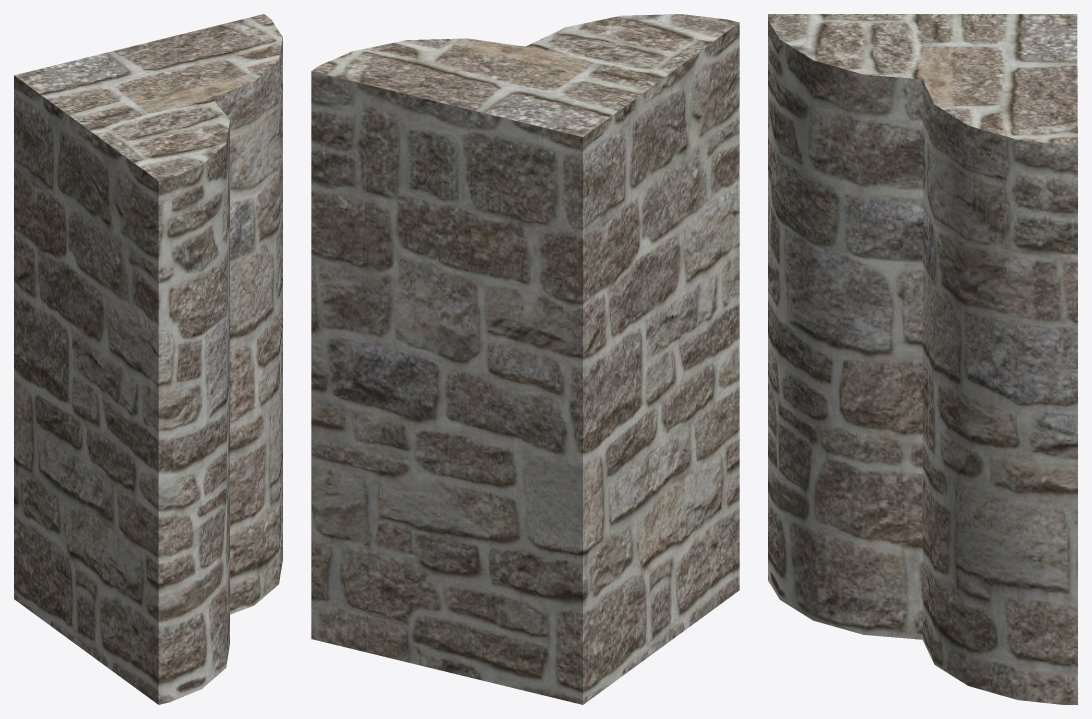
Rendered from wall_big4.obj.
3 renders of one model, left to right at view 1: azimuth 30°, elevation 25°; view 2: azimuth 150°, elevation 25°; view 3: azimuth 270°, elevation 25°, orthographic. The views are drawn at different scales.
Bounding box in the file's own units: 1 × 2 × 1.
